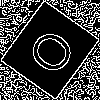O: (25, 25, 87, 85)
